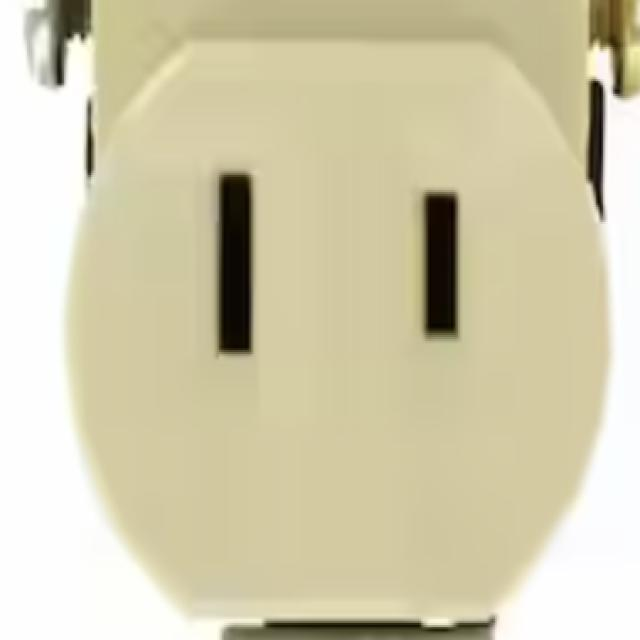type_a: (76, 44, 615, 638)
